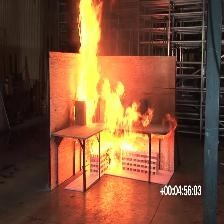fire: (46, 0, 178, 181)
